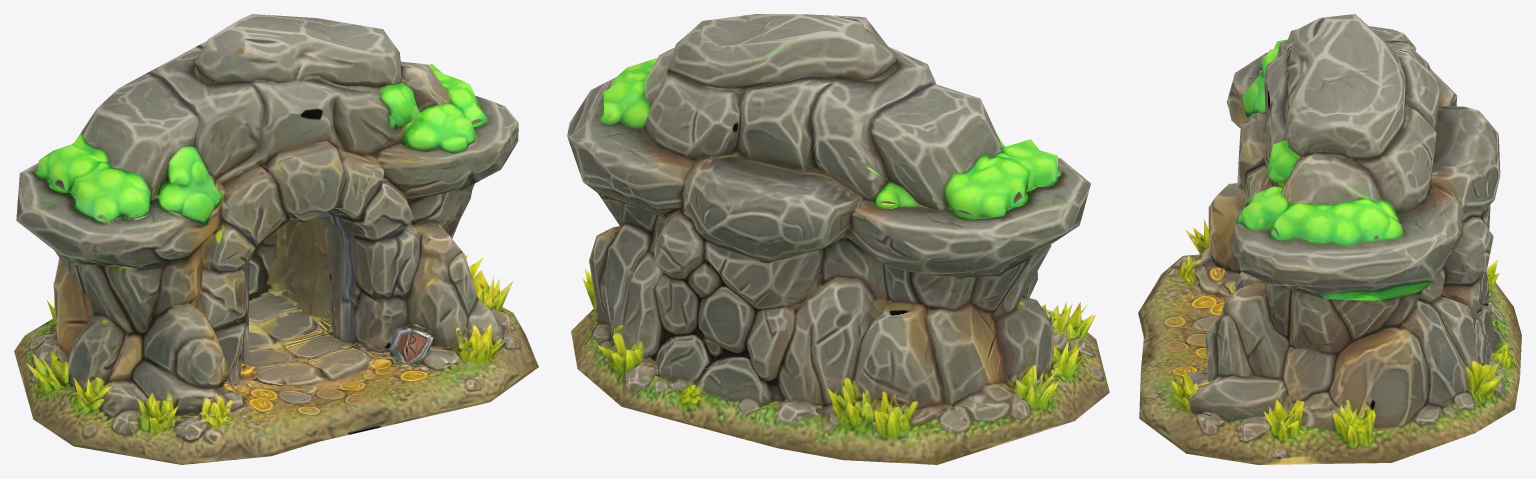
Rendered from treasure.glb.
The picture shows the model from 3 angles, left to right: view 1: azimuth 30°, elevation 25°; view 2: azimuth 150°, elevation 25°; view 3: azimuth 270°, elevation 25°; orthographic projection. The views are drawn at different scales.
Visible parts, largest first — view 1: Mesh1.0; view 2: Mesh1.0; view 3: Mesh1.0.
Boxes of the visible parts, bbox=[...] form: Mesh1.0: bbox=[14, 14, 538, 464]; Mesh1.0: bbox=[567, 14, 1109, 464]; Mesh1.0: bbox=[1138, 14, 1521, 464].
Size of the model in its own units: 1.89 by 1.27 by 1.34.
1 material, 1 textured.
